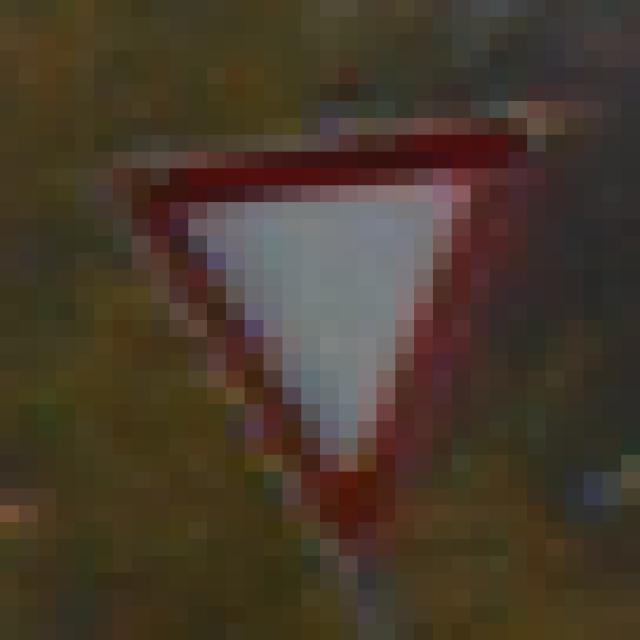Give Way: (114, 102, 547, 557)
